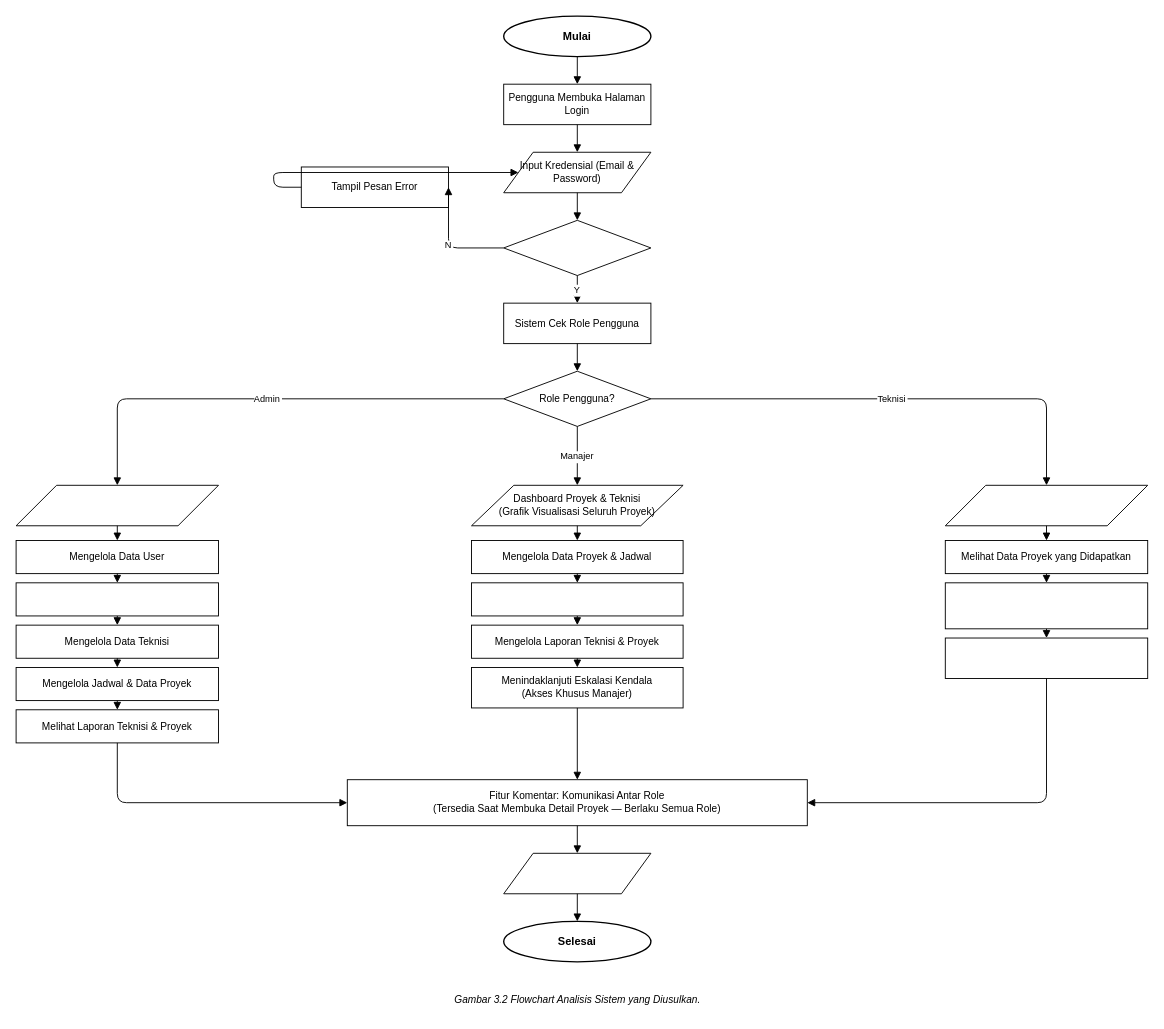
The diagram is 1164 pixels wide and 1029 high, and some of its shapes have lost their labels. The centre of each missing label's shape, as x and y in pixels:
"Dashboard Performa Pekerjaan" goes at point (1046, 505).
"Dashboard Umum (Summary Keseluruhan Proyek)" goes at point (116, 505).
"Logout / Keluar Sistem" goes at point (577, 873).
"Mengajukan Eskalasi Kendala ke Manajer (Akses Khusus)" goes at point (1046, 657).
"Mengelola Data Pelanggan" goes at point (116, 599).
"Mengelola Klien" goes at point (577, 599).
"Mengelola Tugas Proyek Berjalan (Input Data Operasional — Dikunci Real-Time)" goes at point (1046, 605).
"Validasi Kredensial?" goes at point (577, 247).
